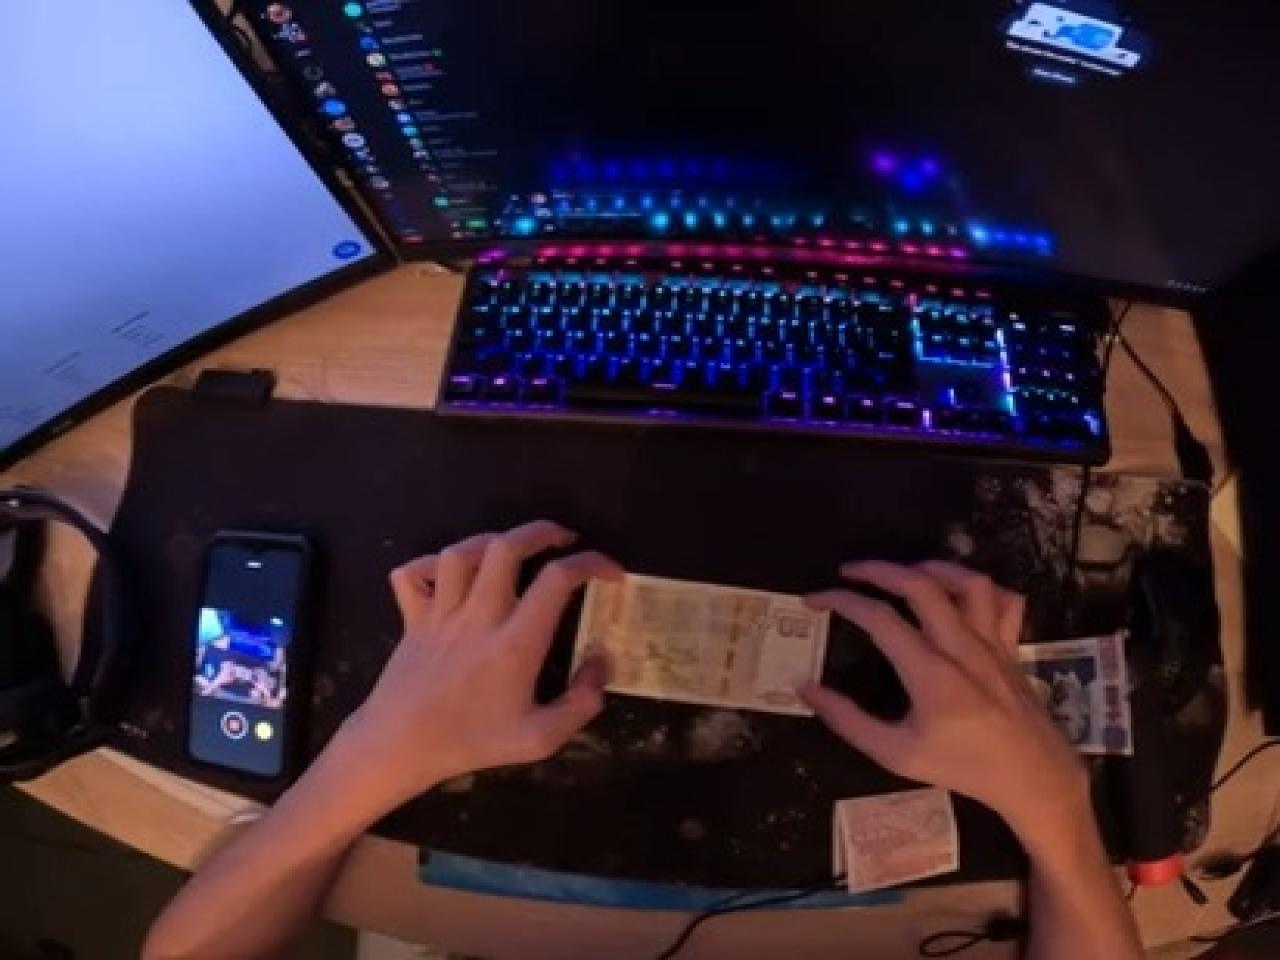50leva: (581, 576, 829, 720)
